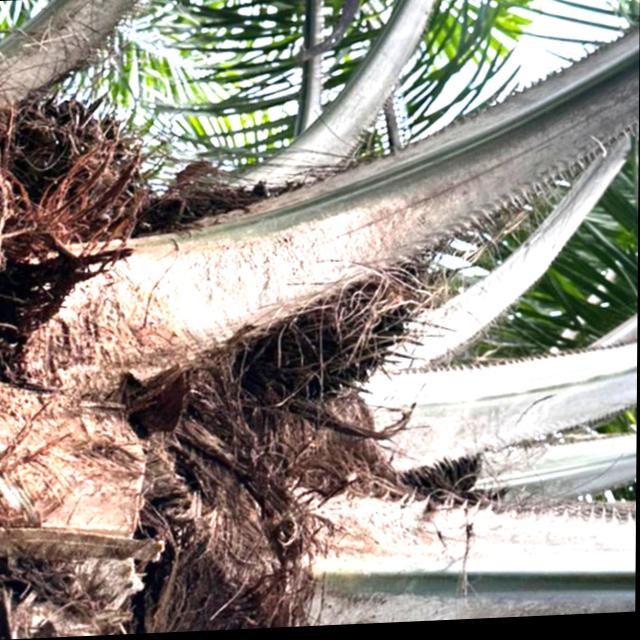unripe: (119, 162, 440, 419), (8, 81, 153, 284)
